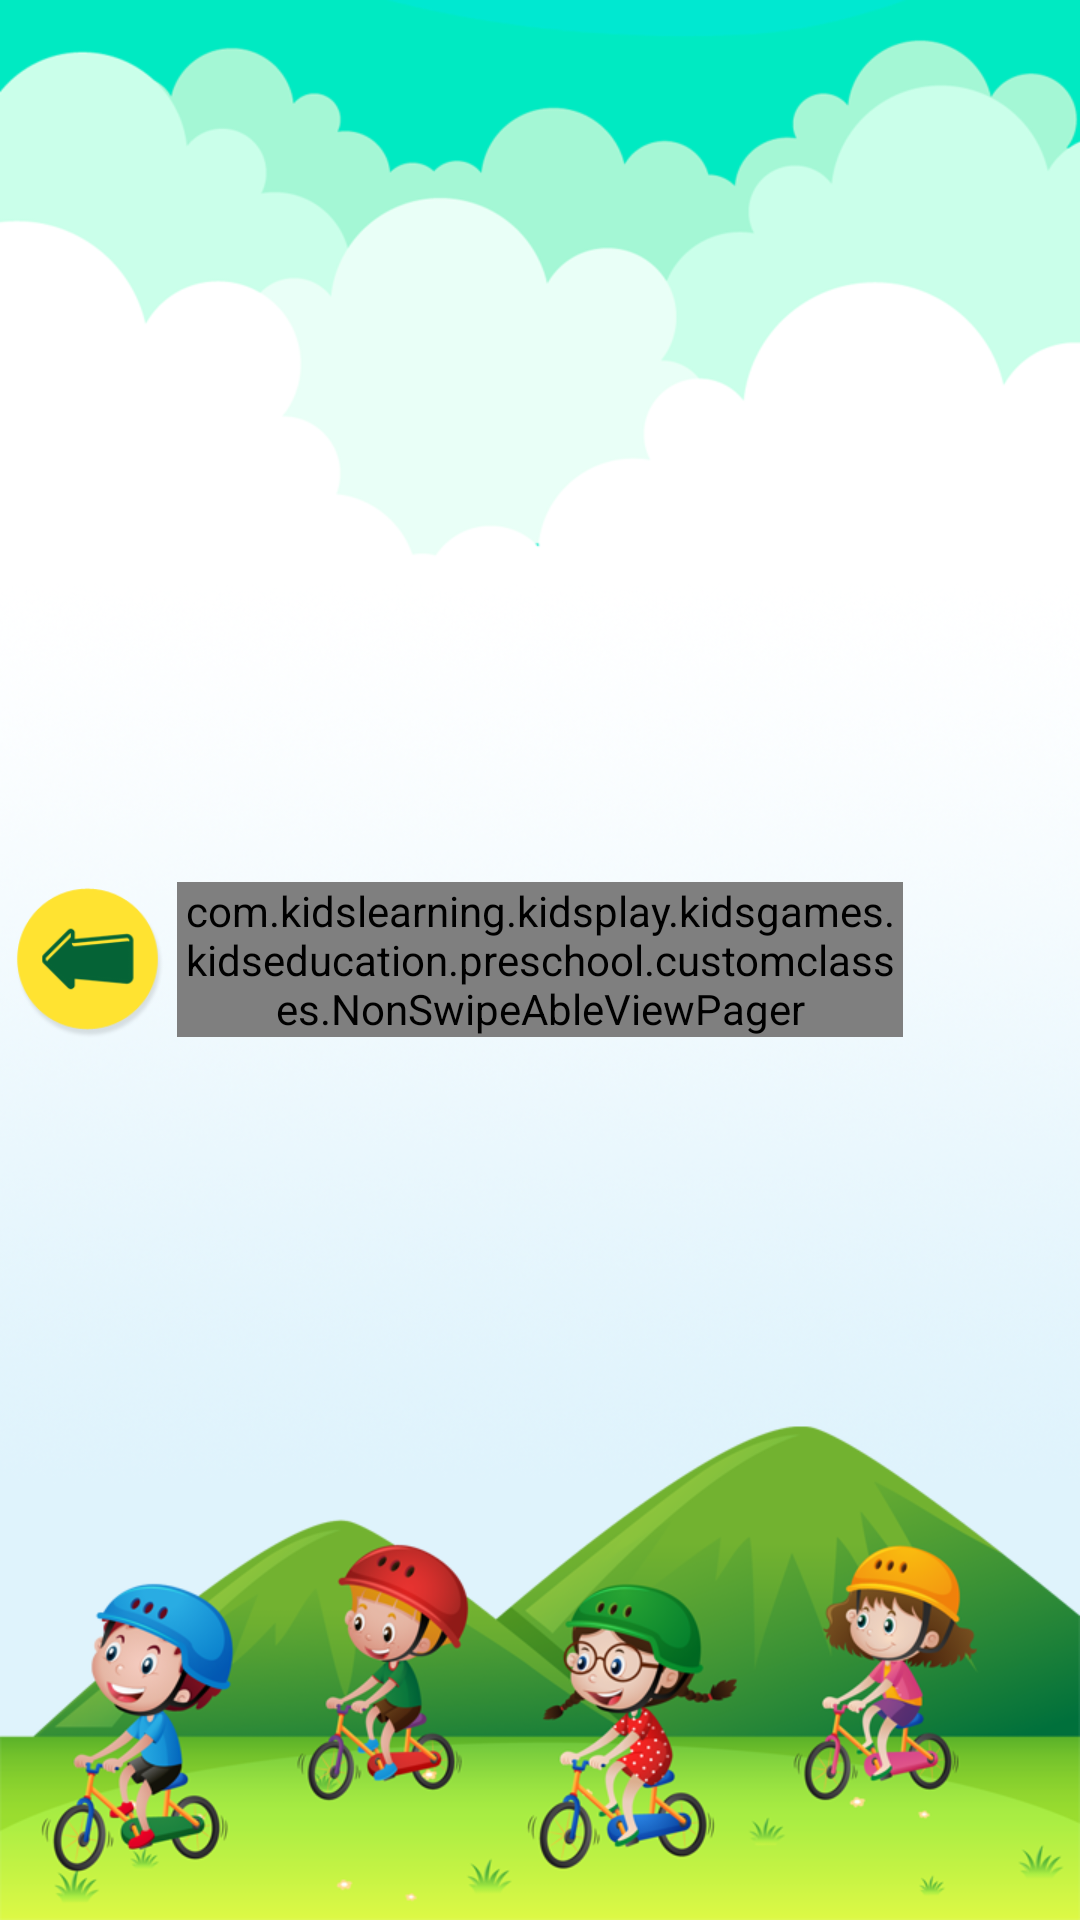

Named icons in this screenshot (1080 × 1920) and their centers, point (x, y):
prev: point (87, 960)
